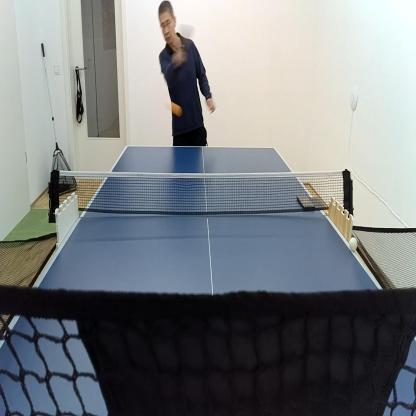Ball: (170, 99, 182, 119), (348, 235, 359, 253)
